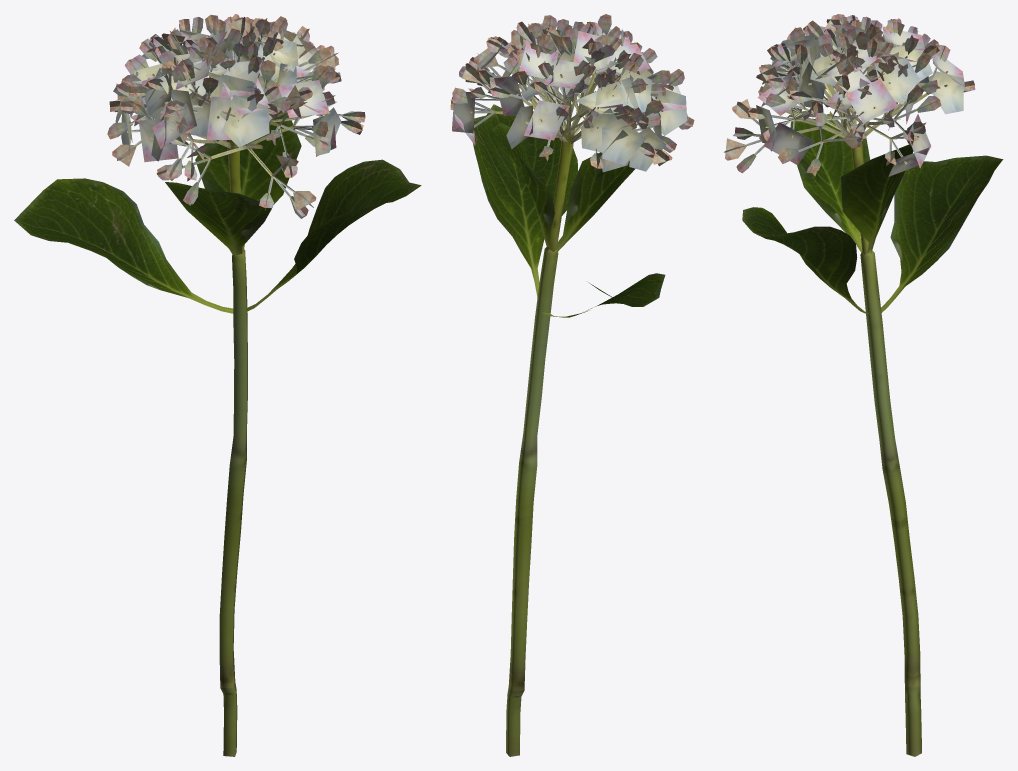
The model's file is Hydrangea_baby_short_yellowgreen.glb.
The picture shows the model from 3 angles, left to right: view 1: azimuth 30°, elevation 25°; view 2: azimuth 150°, elevation 25°; view 3: azimuth 270°, elevation 25°; orthographic projection. The views are drawn at different scales.
Parts seen in each view (by area): view 1: BABY; view 2: BABY; view 3: BABY.
Boxes of the visible parts, bbox=[...] form: BABY: bbox=[14, 14, 421, 756]; BABY: bbox=[450, 14, 694, 756]; BABY: bbox=[724, 14, 1003, 756].
Size of the model in its own units: 0.7928 by 2.03 by 0.7195.
1 material, 1 textured.
